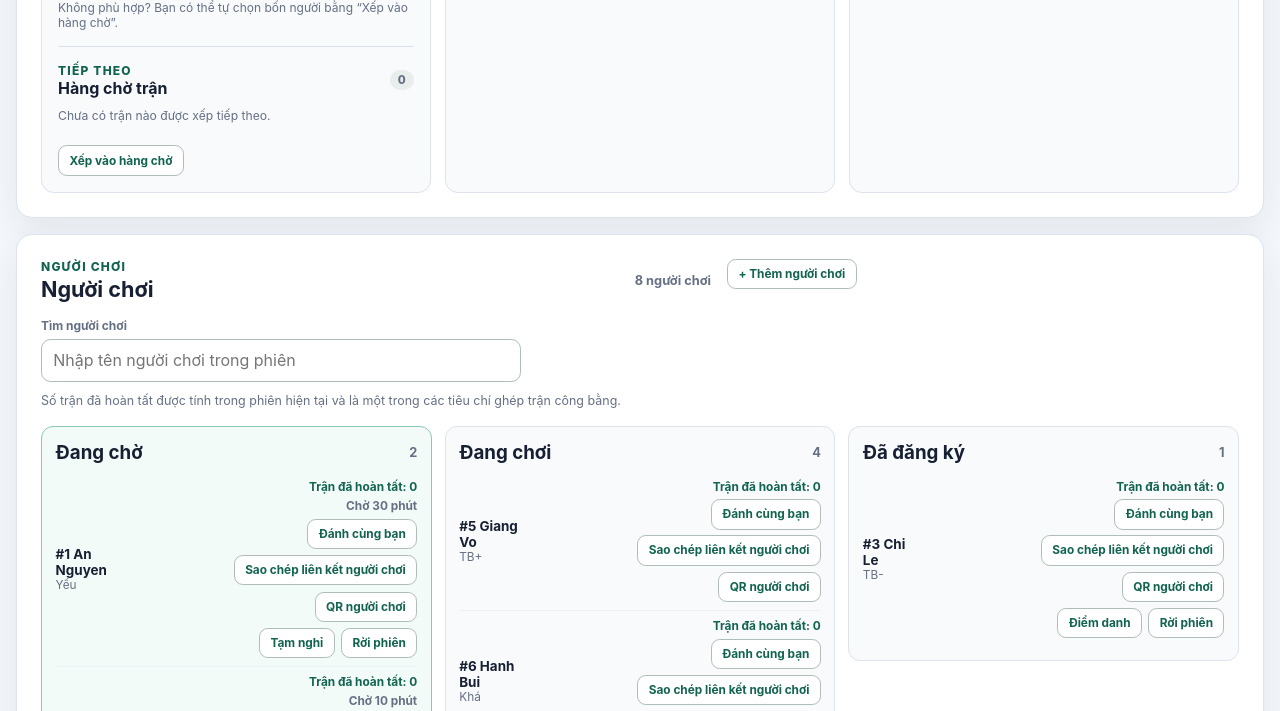
Test: LiveSessionScreen › shows a Session-scoped empty state when People search has no match
The width and height of the screenshot is (1280, 711).
(page scrolled)
Type "không tồn tại" into the search field labelled "Tìm người chơi" at (281, 360), box x1=41 y1=339 x2=521 y2=382
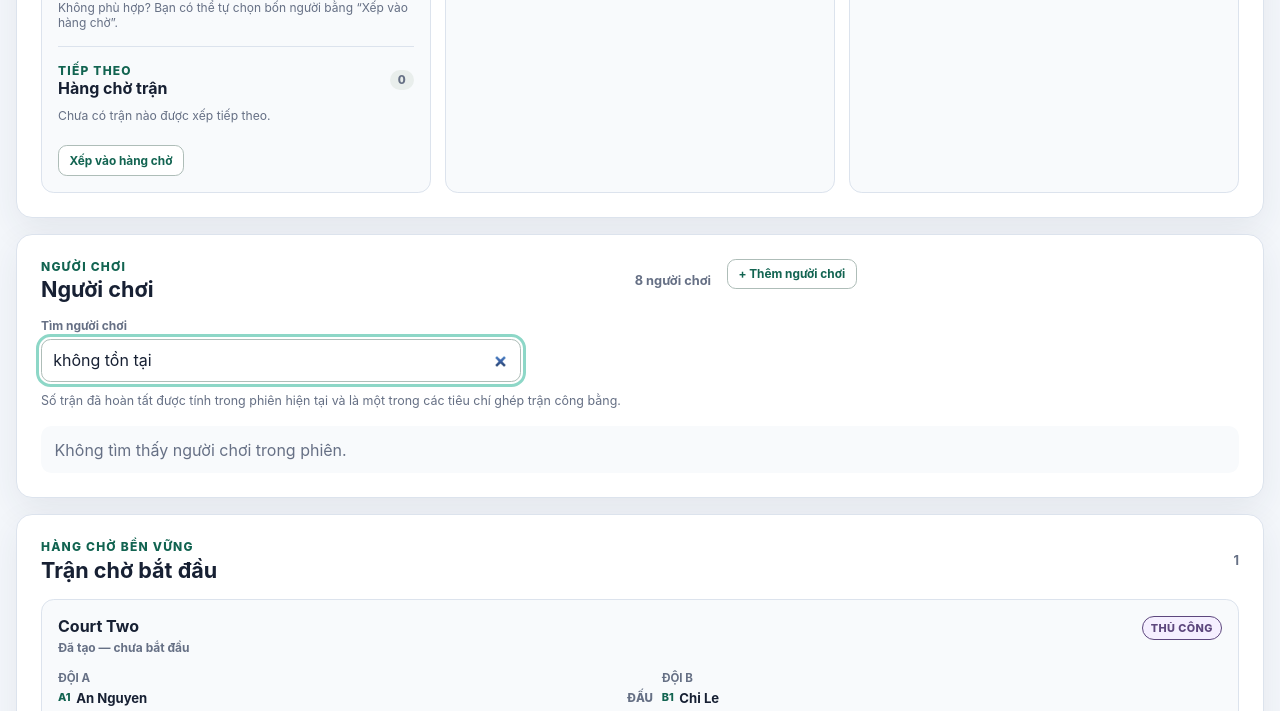
Check: the text "Không tìm thấy người chơi trong phiên." is shown, box x1=41 y1=426 x2=1239 y2=473
